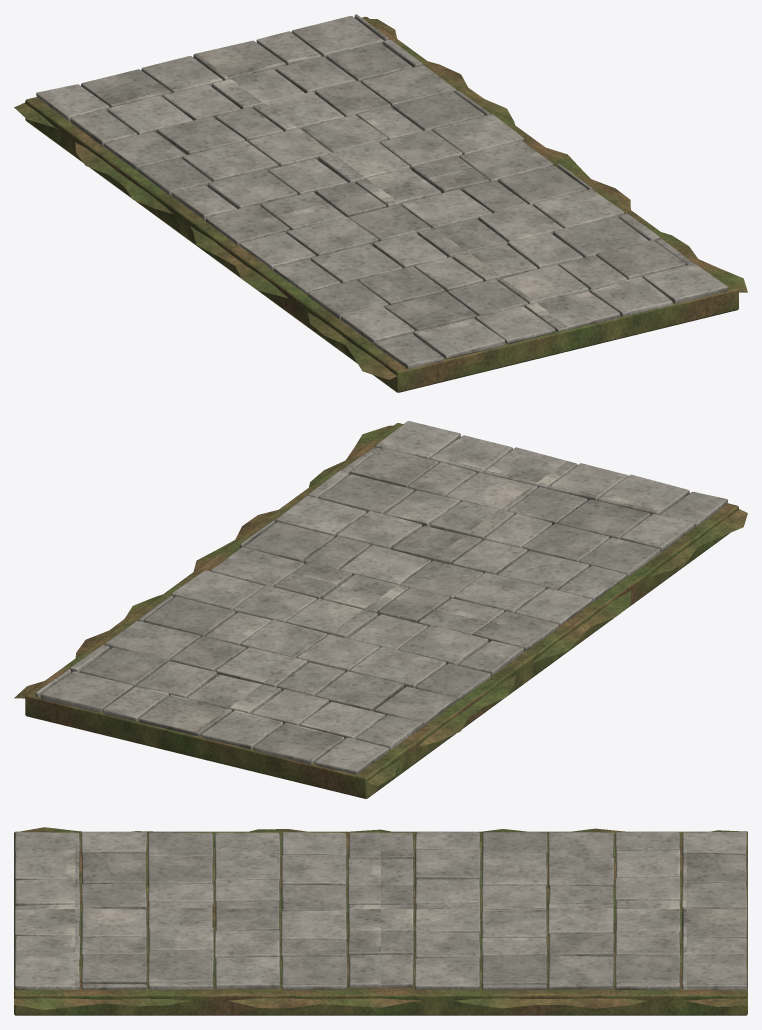
Rendered from stone_path_platform.glb.
3 renders of one model, top to bottom at view 1: azimuth 30°, elevation 25°; view 2: azimuth 150°, elevation 25°; view 3: azimuth 270°, elevation 25°, orthographic.
Visible parts, largest first — view 1: Closely fitted hand dressed flagstone.001, Closely fitted hand dressed flagstone.007, Buried earthen roadbed, Closely fitted hand dressed flagstone, Closely fitted hand dressed flagstone.002, Closely fitted hand dressed flagstone.005, Closely fitted hand dressed flagstone.010; view 2: Closely fitted hand dressed flagstone.001, Closely fitted hand dressed flagstone.007, Buried earthen roadbed, Closely fitted hand dressed flagstone, Closely fitted hand dressed flagstone.002, Closely fitted hand dressed flagstone.005, Closely fitted hand dressed flagstone.010; view 3: Closely fitted hand dressed flagstone.001, Buried earthen roadbed, Closely fitted hand dressed flagstone.007, Closely fitted hand dressed flagstone, Closely fitted hand dressed flagstone.002, Closely fitted hand dressed flagstone.005, Closely fitted hand dressed flagstone.010.
Part boxes in pixels (box(x1,y1,x2,y2)): Closely fitted hand dressed flagstone.001: box(141, 14, 672, 359); Closely fitted hand dressed flagstone.007: box(81, 40, 685, 330); Buried earthen roadbed: box(14, 16, 747, 392); Closely fitted hand dressed flagstone: box(103, 16, 693, 368); Closely fitted hand dressed flagstone.002: box(36, 31, 554, 344); Closely fitted hand dressed flagstone.005: box(107, 91, 727, 303); Closely fitted hand dressed flagstone.010: box(70, 39, 627, 293); Closely fitted hand dressed flagstone.001: box(35, 435, 694, 749); Closely fitted hand dressed flagstone.007: box(80, 447, 650, 764); Buried earthen roadbed: box(14, 423, 747, 798); Closely fitted hand dressed flagstone: box(40, 447, 727, 725); Closely fitted hand dressed flagstone.002: box(103, 463, 627, 774); Closely fitted hand dressed flagstone.005: box(216, 421, 460, 739); Closely fitted hand dressed flagstone.010: box(70, 462, 626, 749); Closely fitted hand dressed flagstone.001: box(14, 831, 747, 990); Buried earthen roadbed: box(14, 827, 747, 1015); Closely fitted hand dressed flagstone.007: box(81, 832, 747, 989); Closely fitted hand dressed flagstone: box(14, 832, 747, 989); Closely fitted hand dressed flagstone.002: box(14, 831, 746, 959); Closely fitted hand dressed flagstone.005: box(14, 850, 680, 989); Closely fitted hand dressed flagstone.010: box(81, 832, 680, 989).
Size of the model in its own units: 4.72 by 0.3218 by 8.
7 materials, 7 textured.
